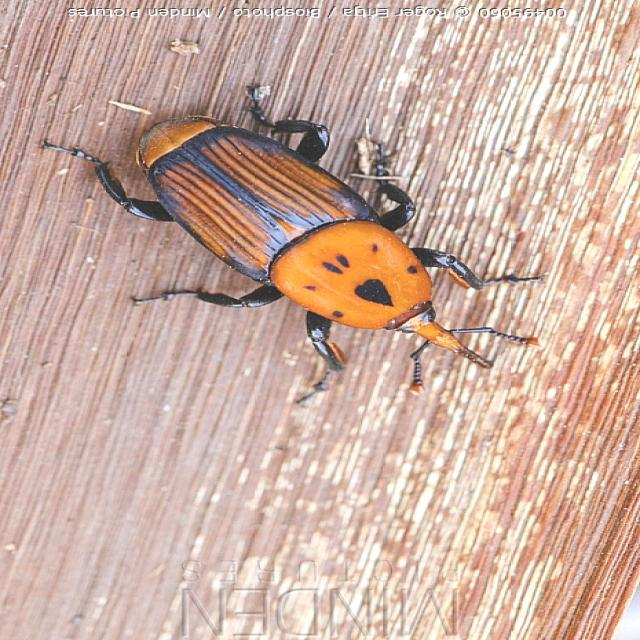Red-palm-weevil: (129, 117, 542, 396)
